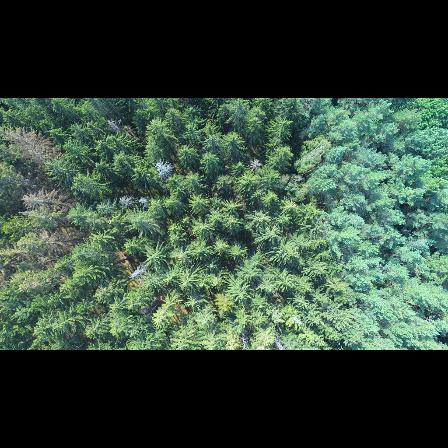Dead: (154, 156, 176, 182), (126, 266, 152, 282), (118, 194, 139, 206), (139, 193, 151, 207)
